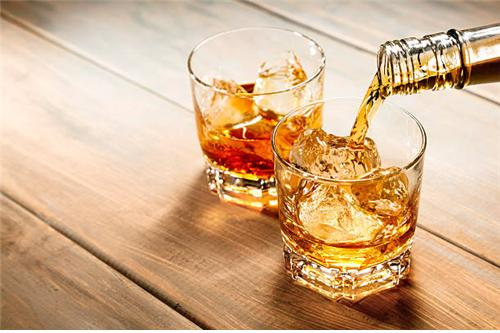alcohol: (269, 95, 430, 303), (185, 25, 327, 208), (377, 20, 499, 99)
